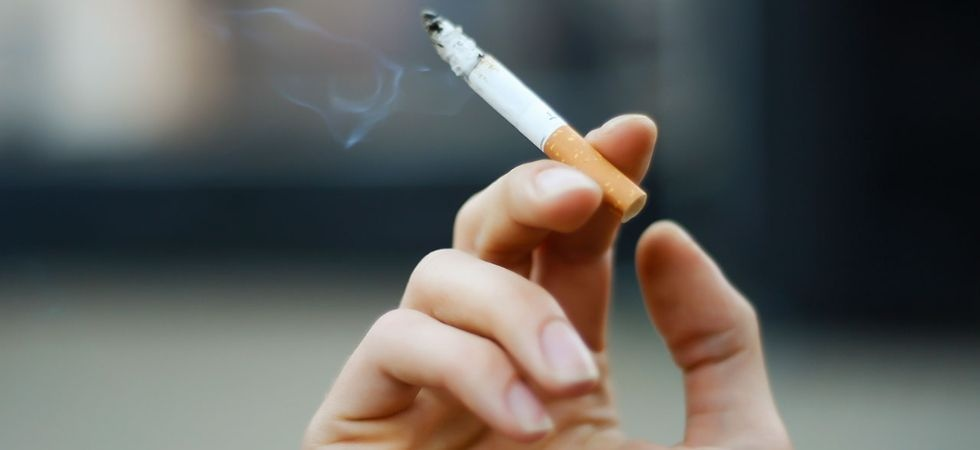sigaretta: (424, 15, 651, 222)
